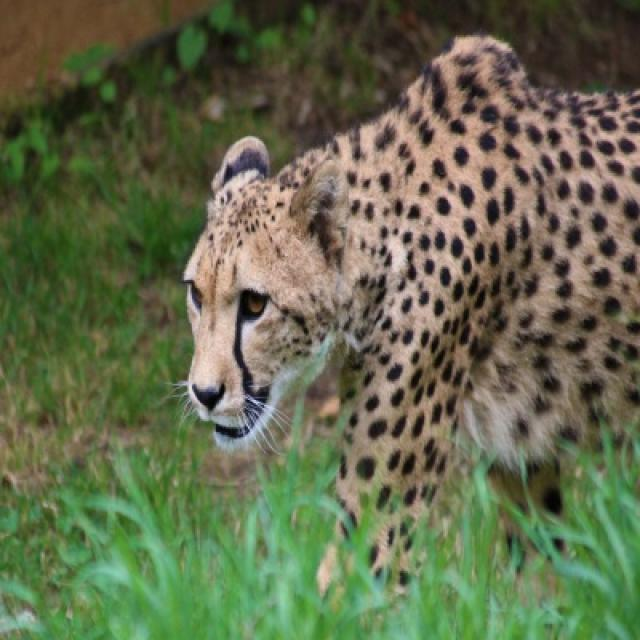Cheetah: (179, 29, 635, 581)
